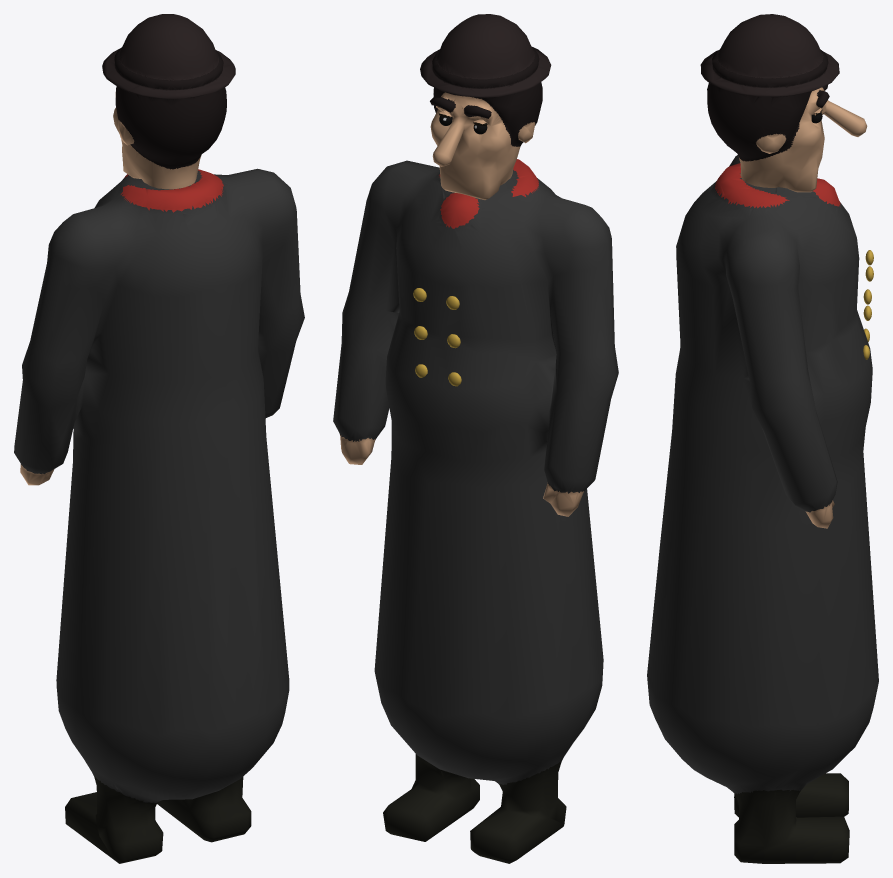
File: boevl-4.glb
The picture shows the model from 3 angles, left to right: view 1: azimuth 30°, elevation 25°; view 2: azimuth 150°, elevation 25°; view 3: azimuth 270°, elevation 25°; orthographic projection.
Parts seen in each view (by area): view 1: body_lod0, head_lod0; view 2: body_lod0, head_lod0; view 3: body_lod0, head_lod0.
Boxes of the visible parts, x1,y1,x2,y2 form: body_lod0: (14, 168, 304, 863); head_lod0: (102, 14, 235, 189); body_lod0: (333, 159, 618, 863); head_lod0: (420, 14, 551, 199); body_lod0: (647, 155, 878, 863); head_lod0: (700, 14, 867, 192).
Size of what is drawn, in the model's own units: 0.8621 by 2.48 by 0.6352.
